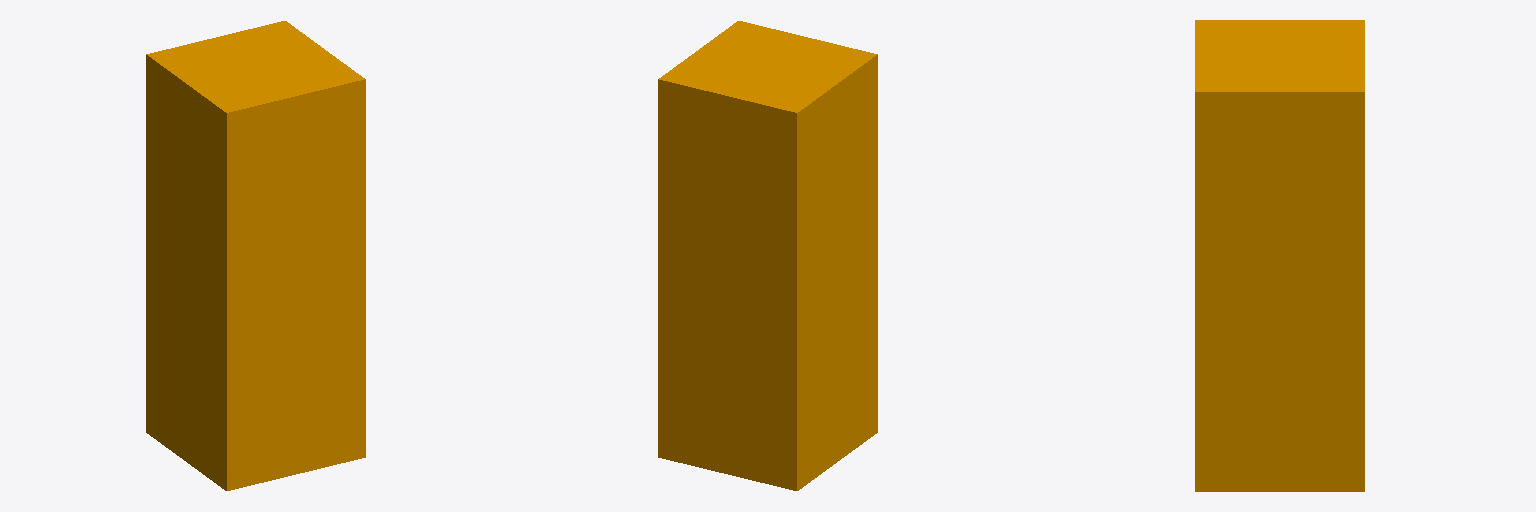
The robot description file, URDF, robot "urdf_robot":
<?xml version="1.0" ?>
<robot name="urdf_robot">
  <link name="baseLink">
    <visual>
      <geometry>
        <box size="0.05 0.05 0.13"/>
      </geometry>
      <origin rpy="0 0 0" xyz="0 0 0.065"/>
    </visual>
    <collision>
      <geometry>
         <box size="0.05 0.05 0.13"/>
      </geometry>
      <origin rpy="0 0 0" xyz="0 0 0.0"/>
    </collision>
    <inertial>
      <mass value="3.5"/>
      <inertia ixx="0.001" ixy="0.0" ixz="0.0" iyy="0.001" iyz="0.0" izz="0.001"/>
      <origin rpy="0 0 0" xyz="0 0 0.0"/>
    </inertial>
  </link>
</robot>

--- Render facts (derived) ---
Views: 3 orthographic renders of the robot side by side, from view 1: azimuth 30°, elevation 25°; view 2: azimuth 150°, elevation 25°; view 3: azimuth 270°, elevation 25°.
Model urdf_robot with 1 links and 0 joints (none), rooted at baseLink, posed every joint at zero.
Links seen in each view (by area): view 1: baseLink; view 2: baseLink; view 3: baseLink.
Link boxes in pixels (left/top/right/bottom): baseLink: left=146, top=21, right=365, bottom=490; baseLink: left=658, top=21, right=877, bottom=490; baseLink: left=1195, top=20, right=1364, bottom=491.
Bounding box of the posed robot: 0.05 × 0.05 × 0.13 m (x, y, z).
Geometry: primitives only (box / cylinder / sphere), no mesh files.